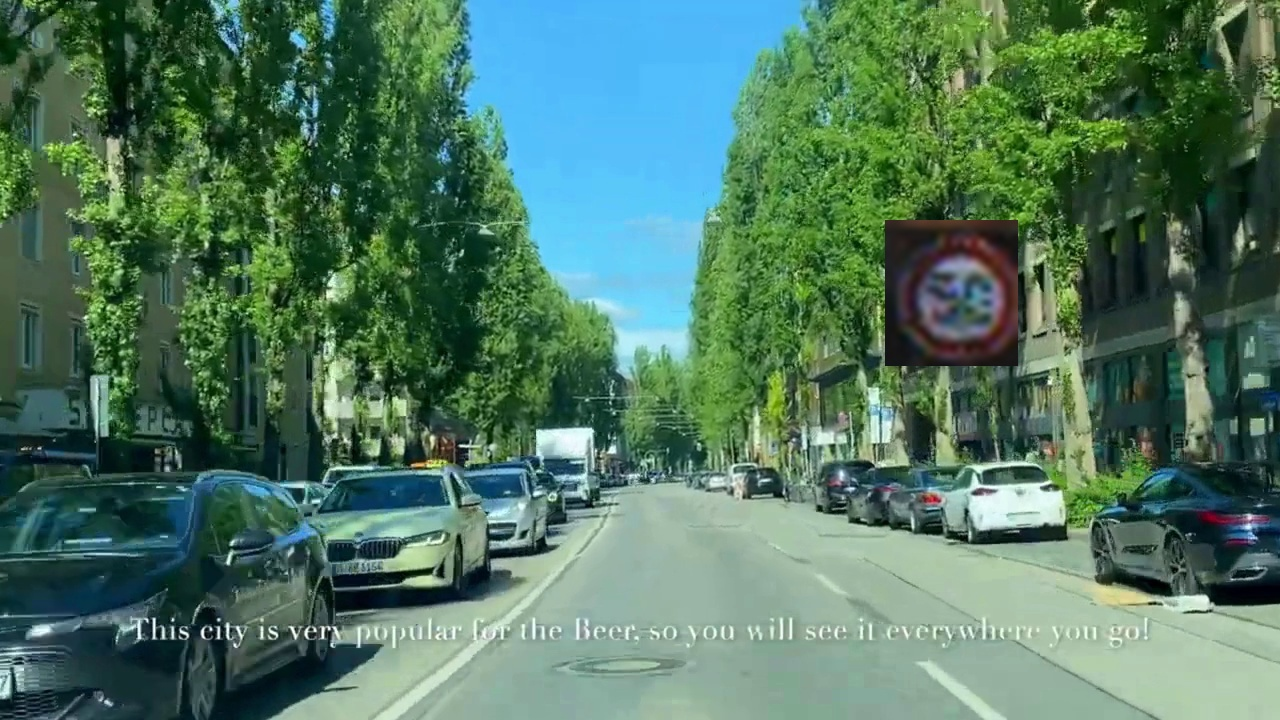Speed 50: (885, 220, 1018, 366)
